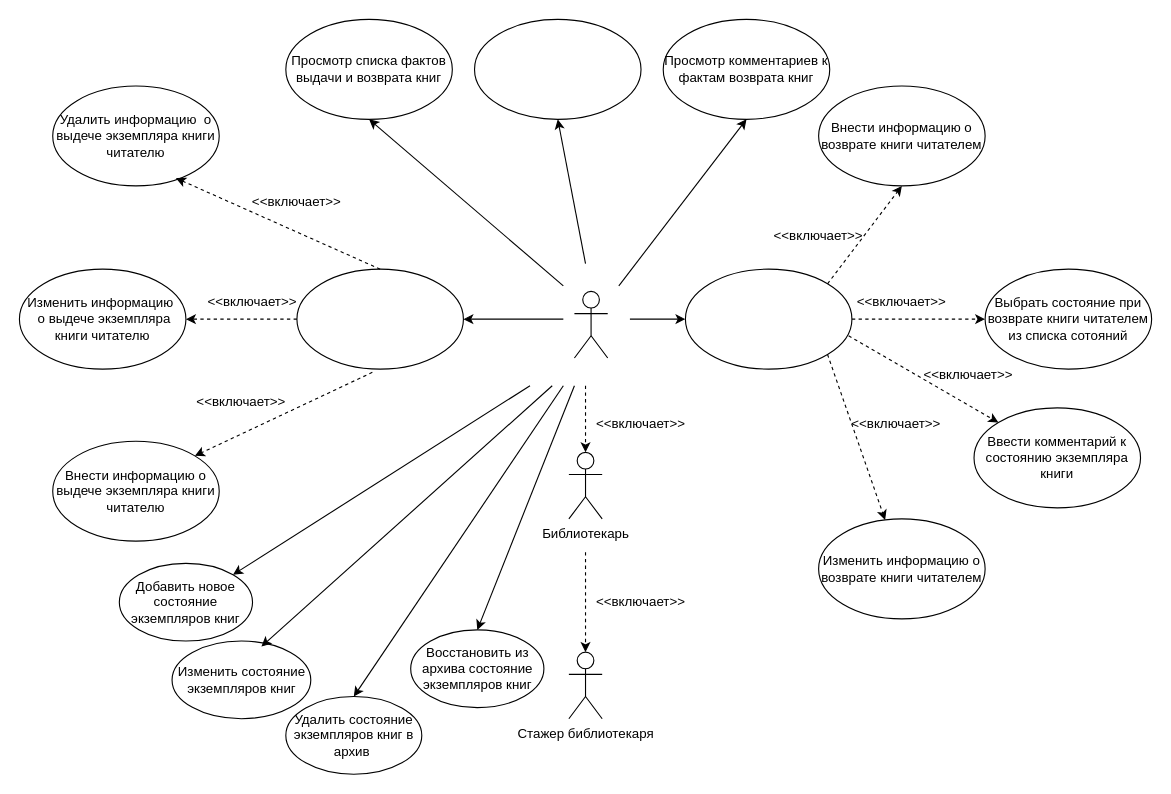
This 1171x794 diagram has some shape labels left out. Each missing label, with the box of its shape:
Администратор: (573, 290, 608, 358)
Поиск по фактам выдачи и возврата книг: (473, 18, 641, 119)
Регистрация факта возврата книги читателем: (684, 268, 852, 369)
Регистрация факта выдачи книги читателю: (296, 268, 463, 369)
